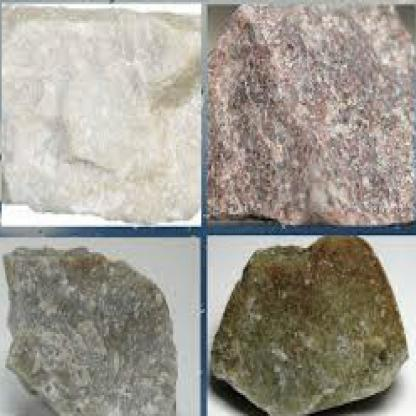Metamorphic_Quartize: (2, 0, 200, 225), (213, 10, 415, 221), (206, 237, 413, 414), (2, 242, 188, 414)
